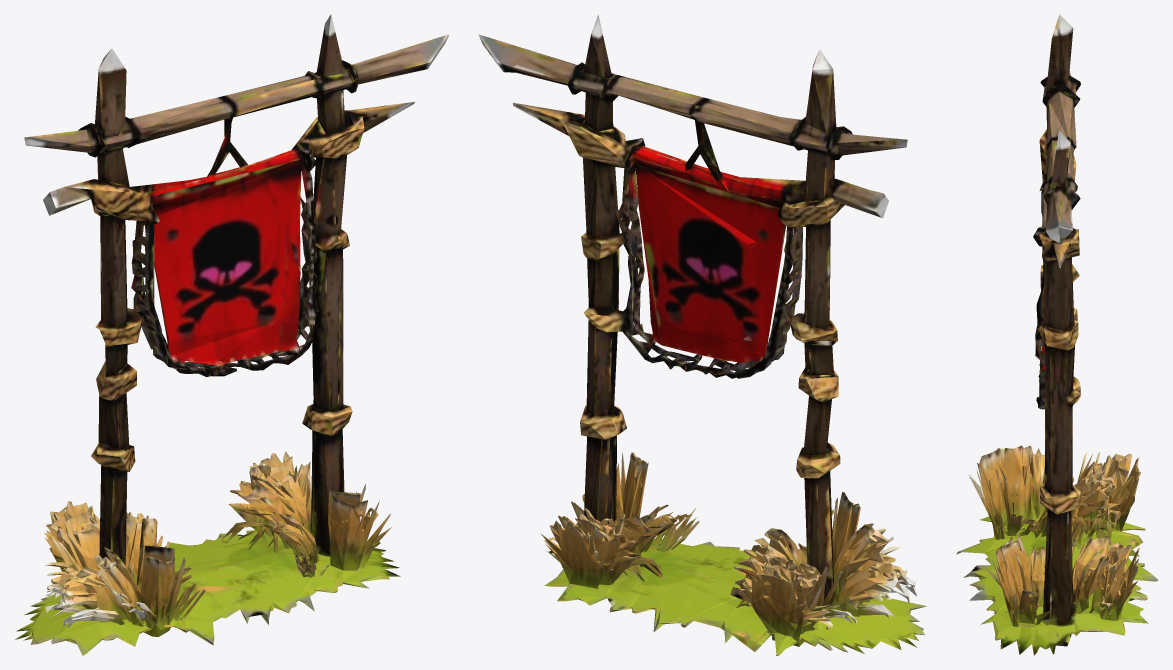
The model's file is ogre_banner_01.glb.
The picture shows the model from 3 angles, left to right: view 1: azimuth 30°, elevation 25°; view 2: azimuth 150°, elevation 25°; view 3: azimuth 270°, elevation 25°; orthographic projection. The views are drawn at different scales.
Visible parts, largest first — view 1: geometry_0; view 2: geometry_0; view 3: geometry_0.
Boxes of the visible parts, x1,y1,x2,y2 form: geometry_0: (15, 14, 449, 655); geometry_0: (478, 14, 926, 655); geometry_0: (956, 14, 1158, 655).
Size of the model in its own units: 0.7863 by 0.999 by 0.3459.
1 material, 1 textured.
